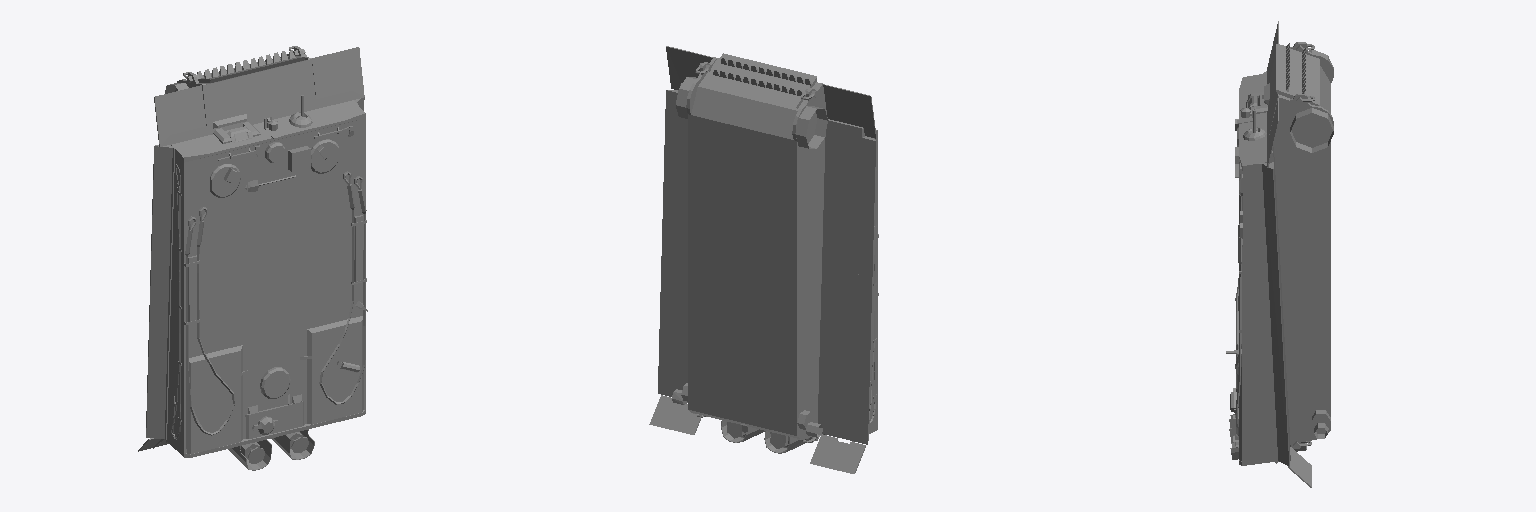
File: Hull.obj
The picture shows the model from 3 angles: view 1: azimuth 30°, elevation 25°; view 2: azimuth 150°, elevation 25°; view 3: azimuth 270°, elevation 25°; orthographic projection.
Parts seen in each view (by area): view 1: 3D_Object_1; view 2: 3D_Object_1; view 3: 3D_Object_1.
Boxes of the visible parts, box(x1,y1,x2,y2) form: 3D_Object_1: box(138, 46, 367, 470); 3D_Object_1: box(649, 46, 878, 473); 3D_Object_1: box(1226, 21, 1333, 487).
Bounding box in the file's own units: 3.69 × 6.43 × 1.66.